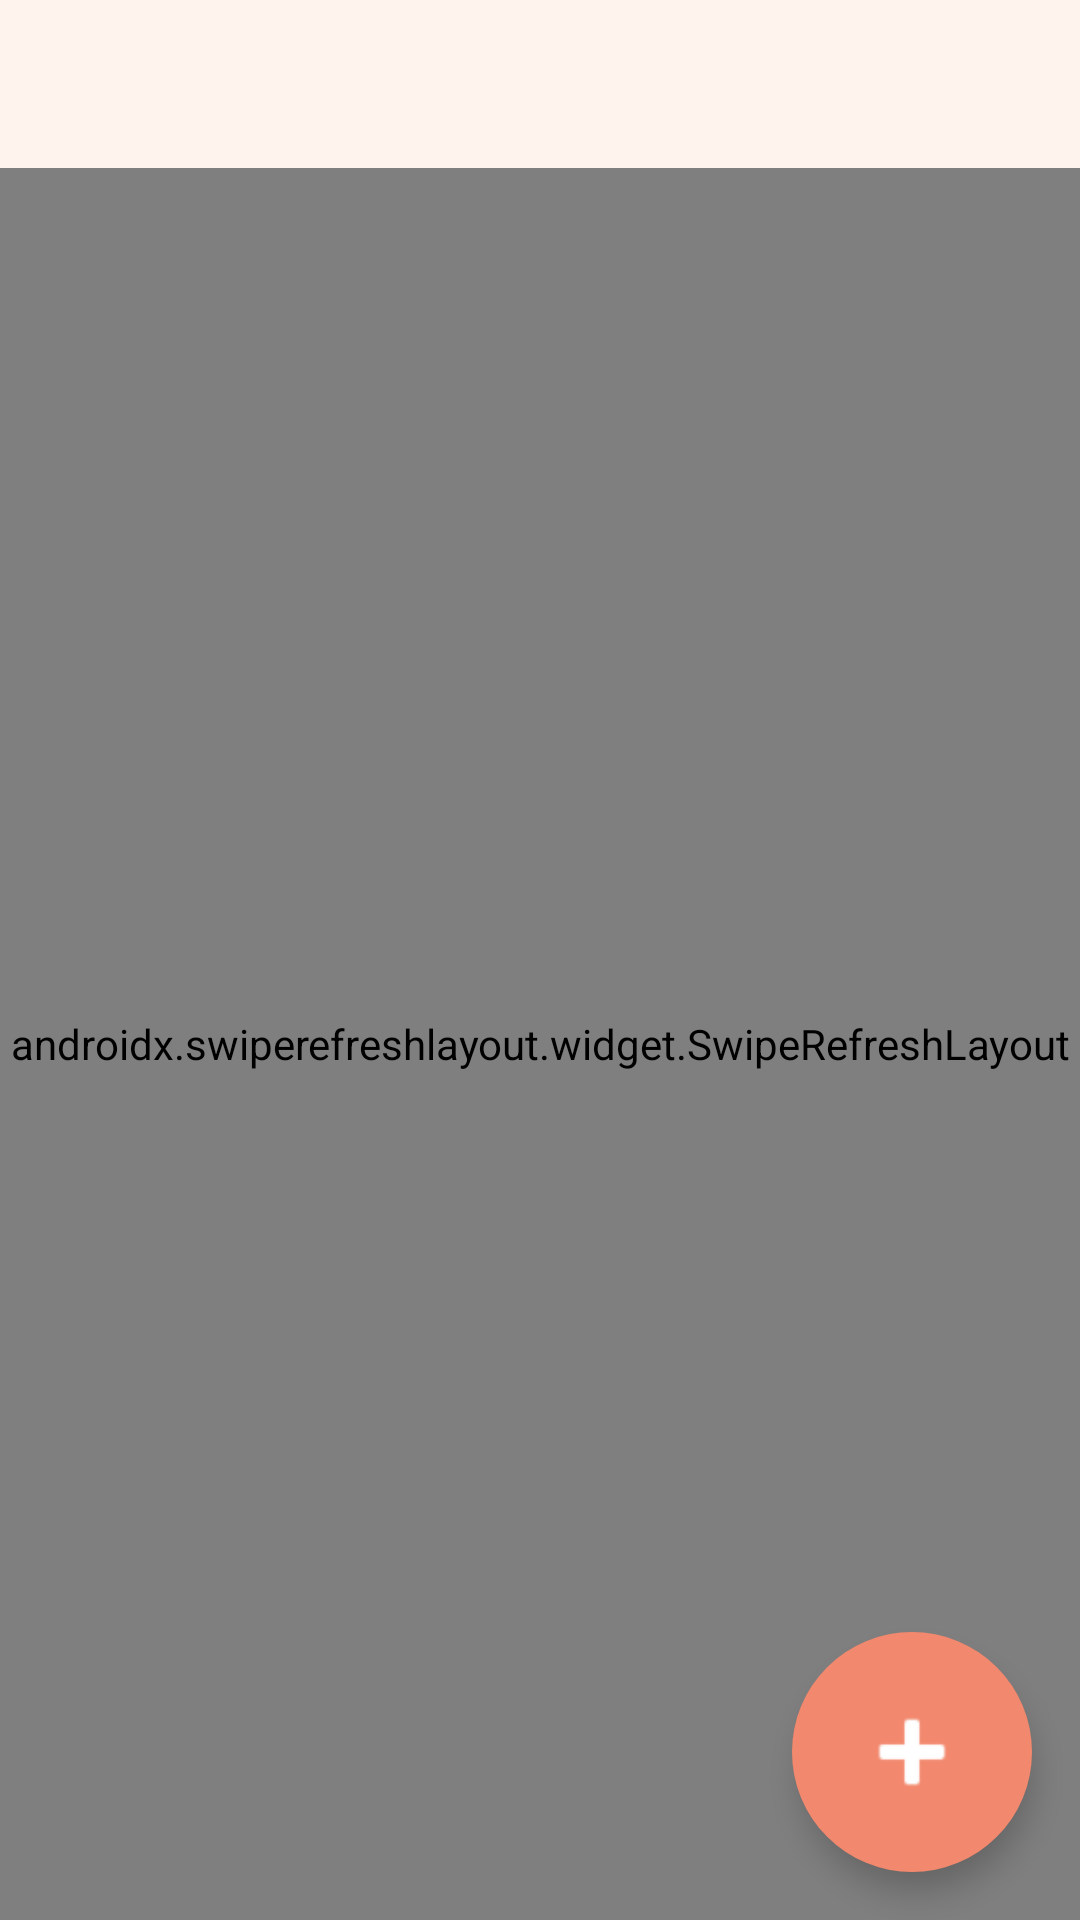

Screen size 1080 x 1920. Icon name, then its box in pixels as [x1=x1, y1=y1, x2=x2, y2=y2]:
add: [x1=792, y1=1632, x2=1032, y2=1872]
